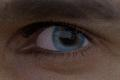eye: (52, 28, 85, 50)
